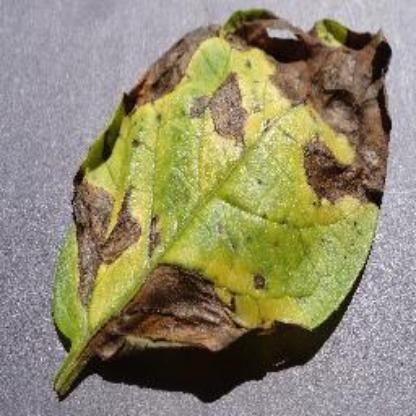Early-Blight: (49, 9, 396, 397)
